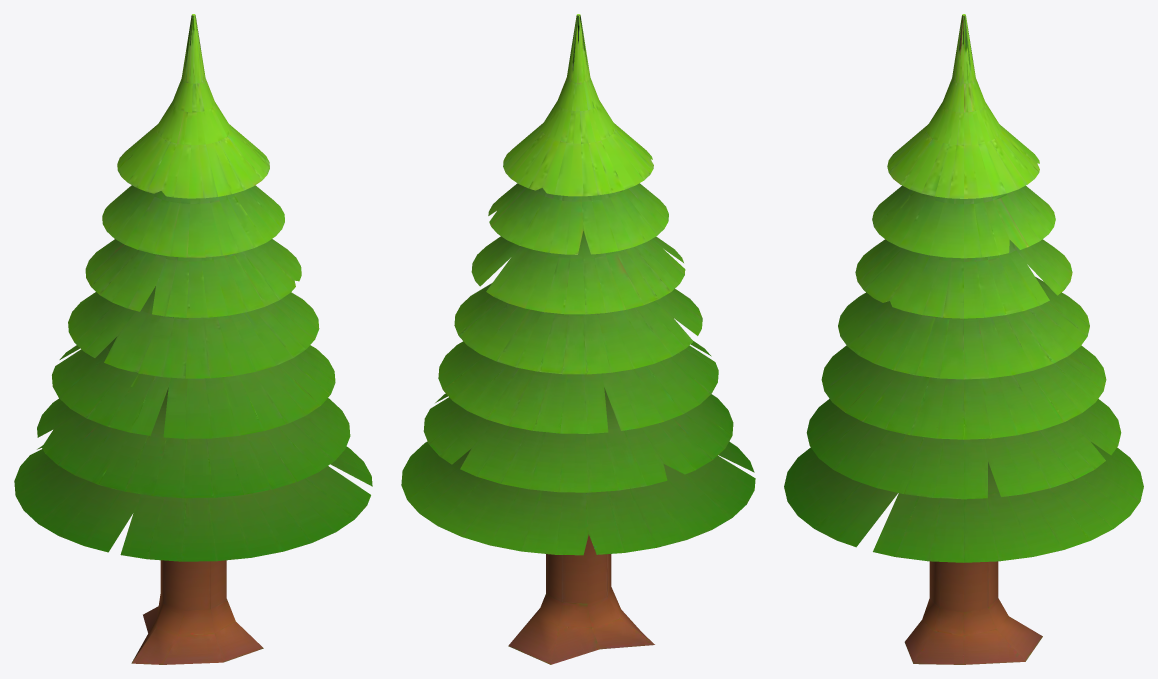
The model's file is tree.glb.
3 renders of one model, left to right at view 1: azimuth 30°, elevation 25°; view 2: azimuth 150°, elevation 25°; view 3: azimuth 270°, elevation 25°, orthographic.
Parts seen in each view (by area): view 1: Low poly tree; view 2: Low poly tree; view 3: Low poly tree.
Part boxes in pixels (x1=…): Low poly tree: x1=14, y1=14, x2=372, y2=664; Low poly tree: x1=401, y1=14, x2=755, y2=664; Low poly tree: x1=784, y1=14, x2=1143, y2=664.
Size of the model in its own units: 5.25 by 10.09 by 5.25.
1 material, 1 textured.
